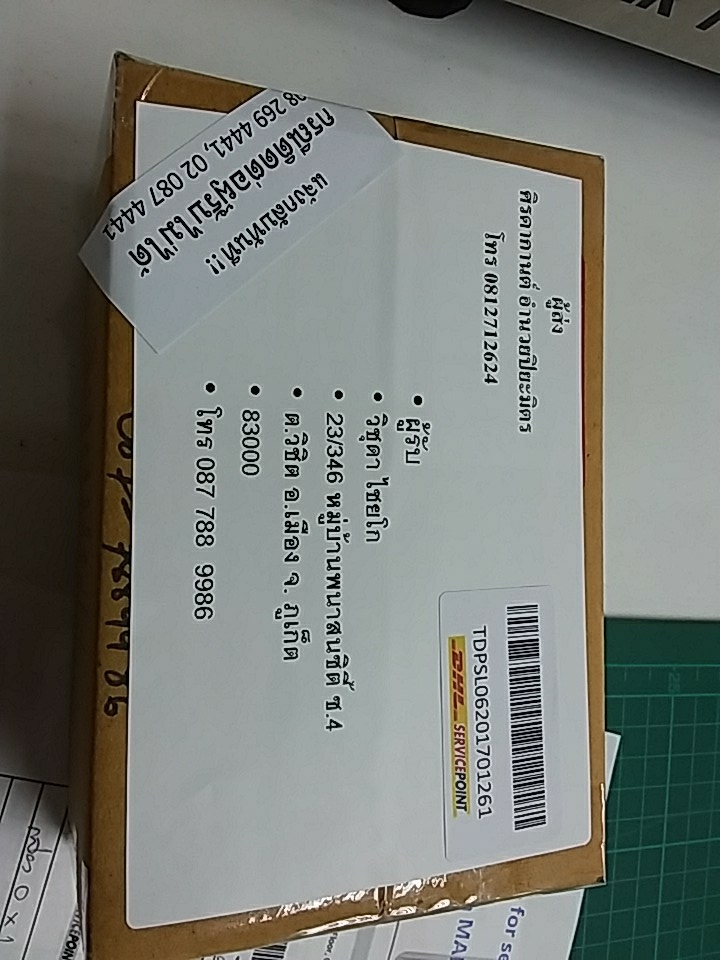ba: (429, 568, 571, 871)
txt: (187, 361, 434, 751)
